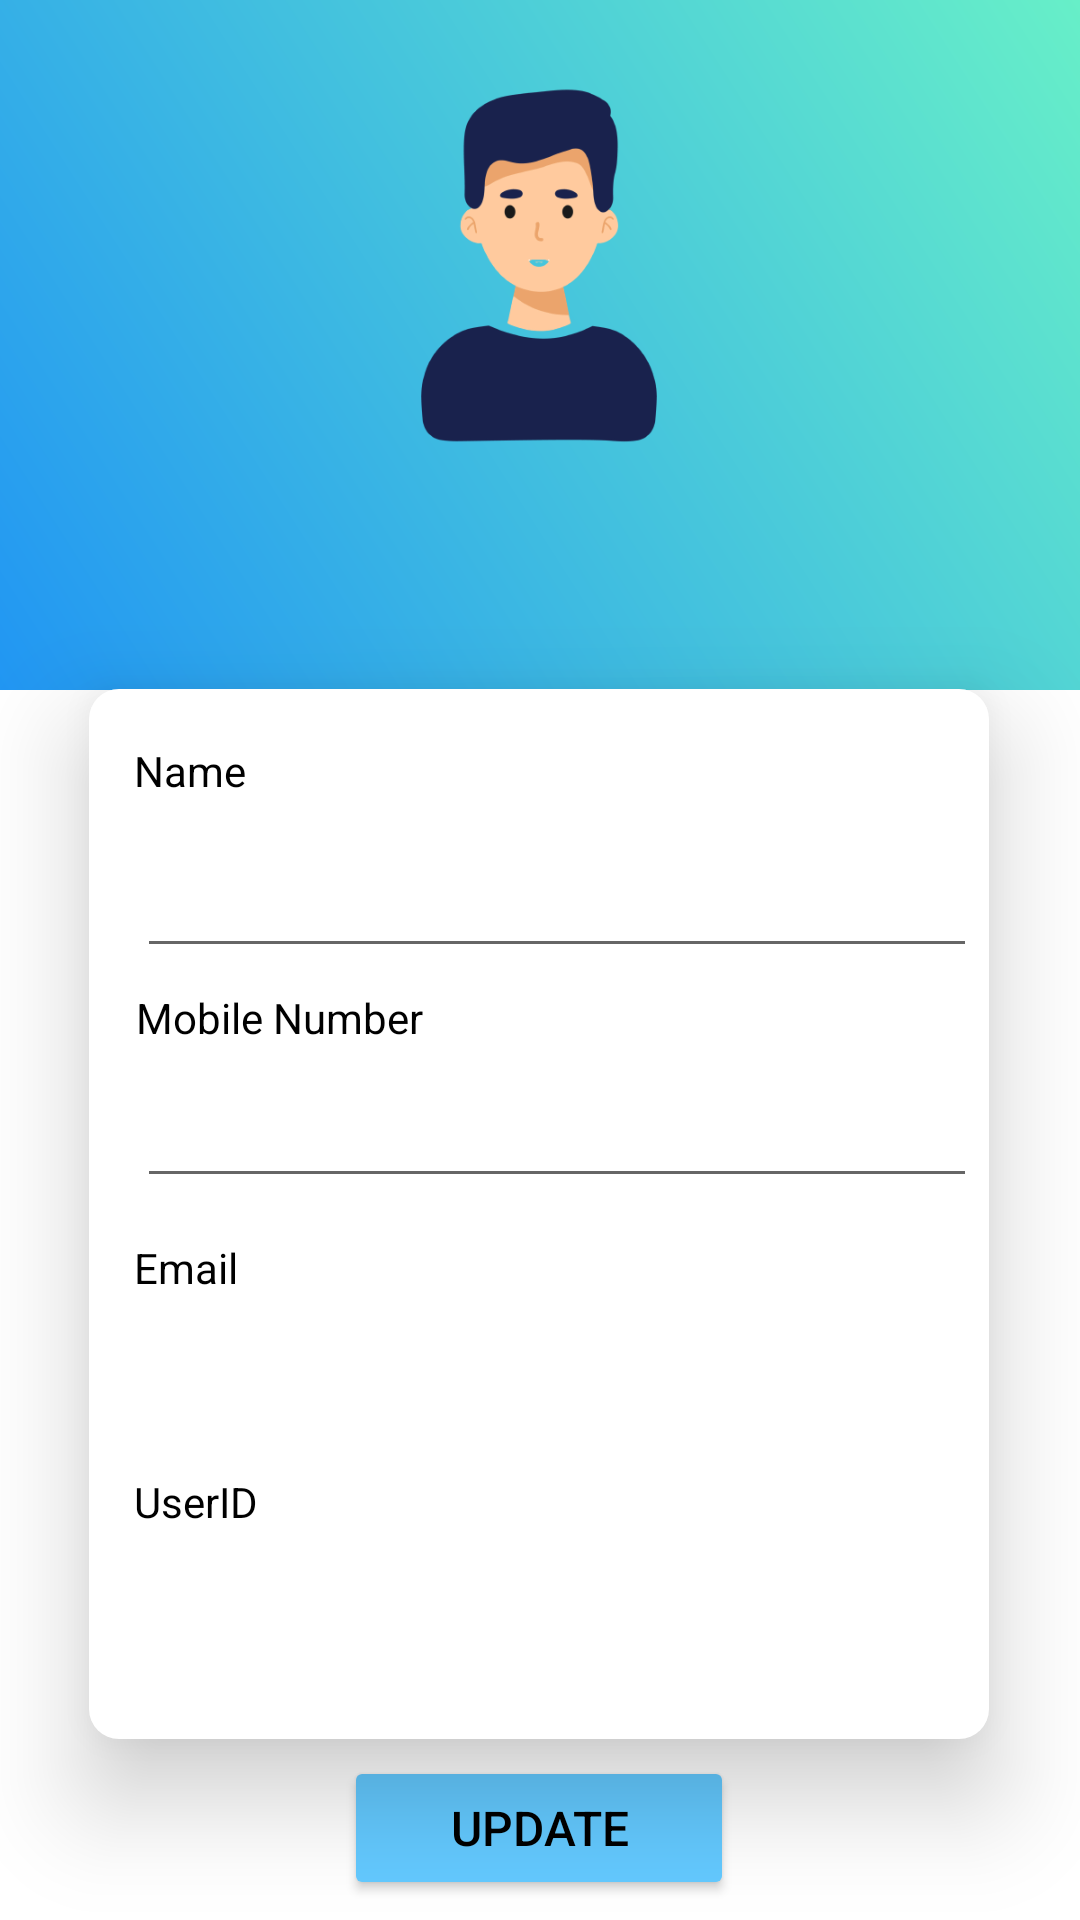

Icons on this 1080w x 1920h Android screen, each with the point to tap as (x=x, y=y):
profile: (x=539, y=265)
